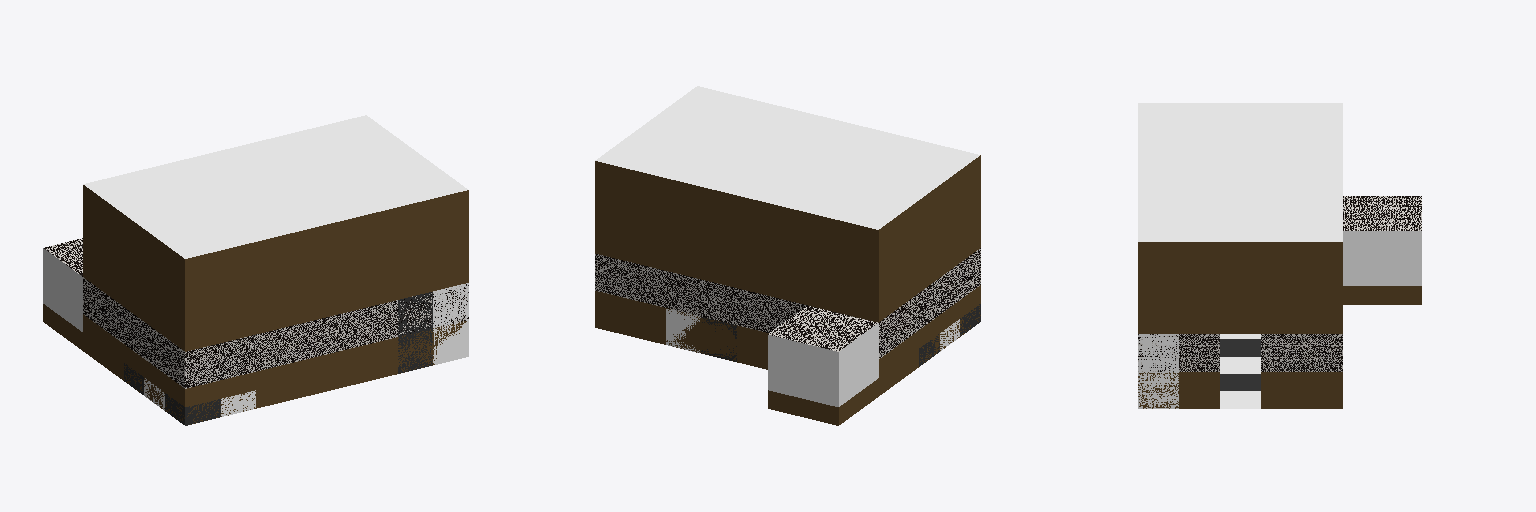
3 renders of one model, left to right at view 1: azimuth 30°, elevation 25°; view 2: azimuth 150°, elevation 25°; view 3: azimuth 270°, elevation 25°, orthographic.
Parts seen in each view (by area): view 1: brownRoom; view 2: brownRoom; view 3: brownRoom.
Boxes of the visible parts, x1,y1,x2,y2 form: brownRoom: [43, 115, 468, 425]; brownRoom: [595, 86, 980, 425]; brownRoom: [1138, 103, 1421, 408].
Size of the model in its own units: 64 by 36 by 55.56.
Materials: 6 (1 with a texture image).